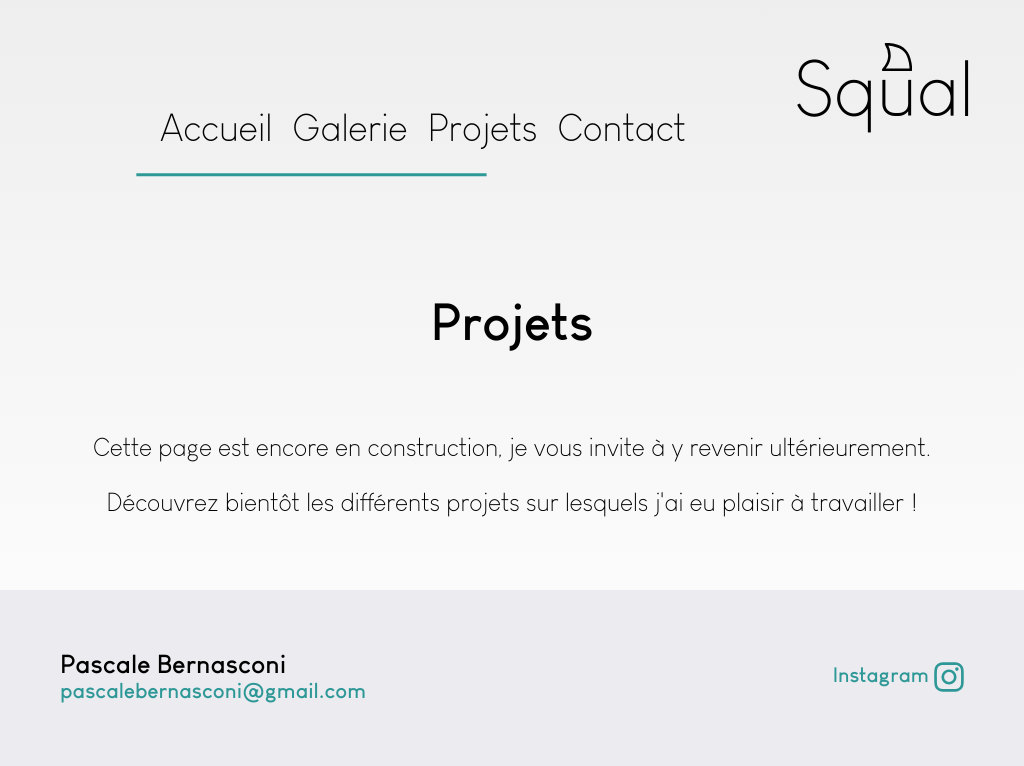
E2E Tests - Fake API › Contact present form › Going to contact page
The width and height of the screenshot is (1024, 766).
Step 1. Click the link to "/contact" → {"x": 623, "y": 128}, box x1=558 y1=106 x2=687 y2=149
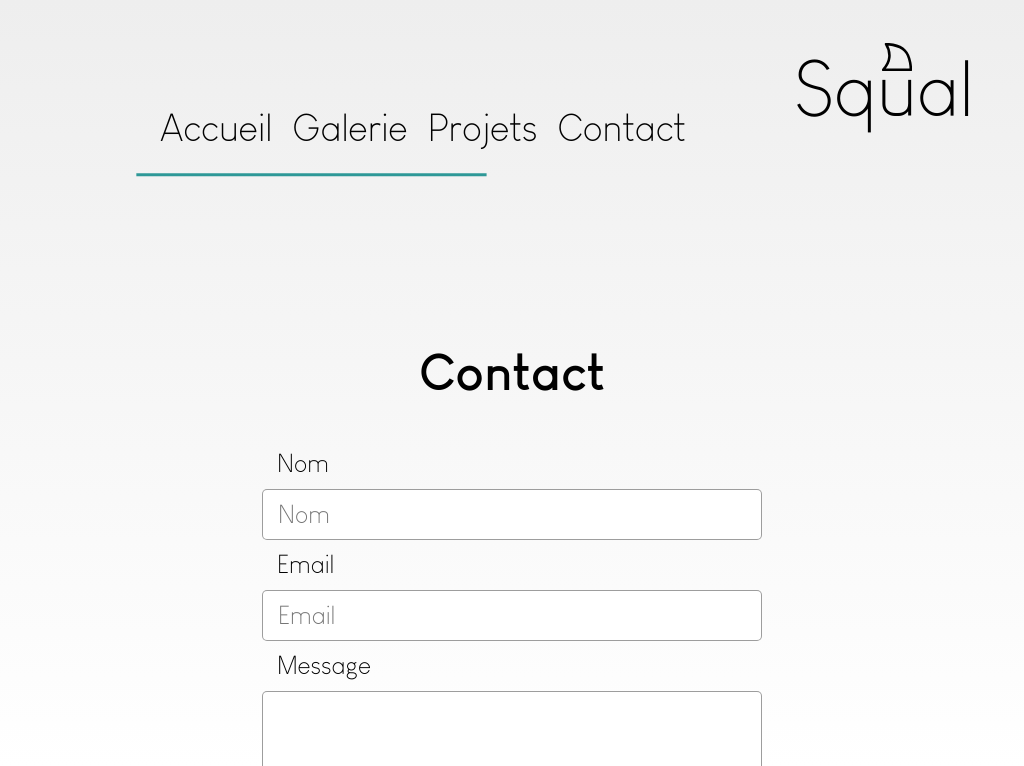
Now the heading "Contact" is shown, box x1=419 y1=344 x2=605 y2=403
